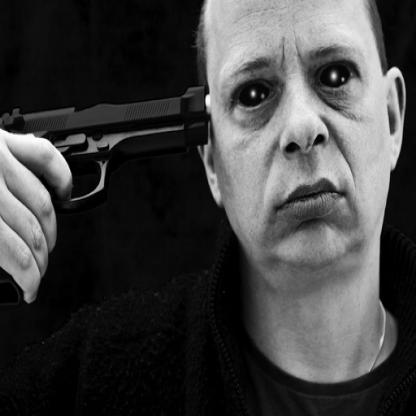gun: (0, 84, 209, 314)
